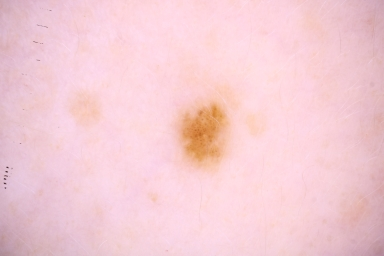melanoma: (174, 107, 229, 167)
